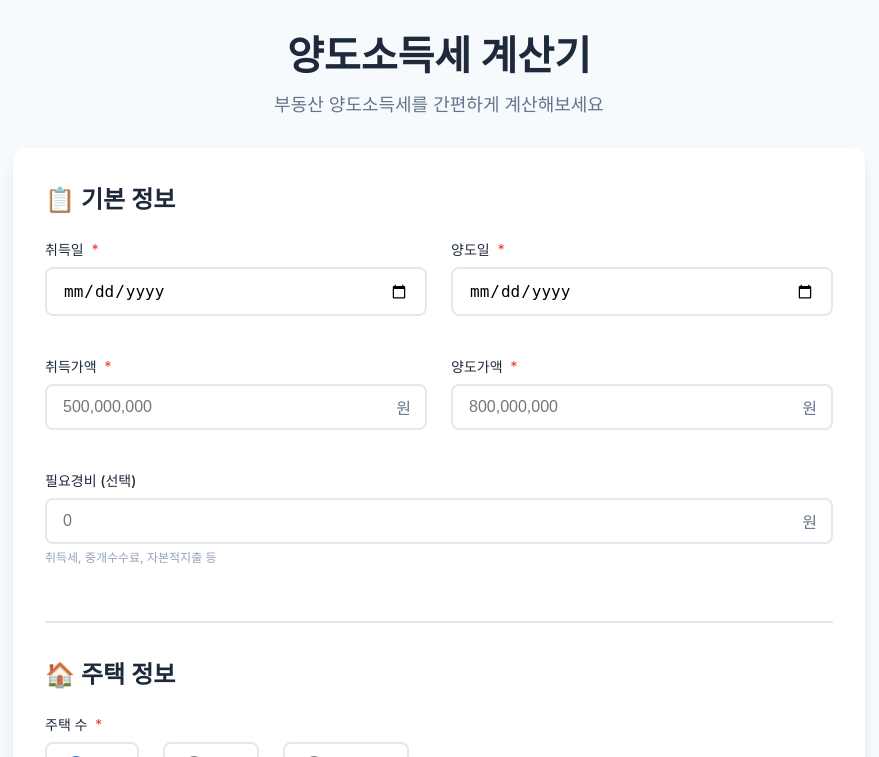
Test case: Capital Gains Tax Flow Integration Tests › Form Validation Integration › Should validate date order (transfer date must be after acquisition)
# Enter dates in wrong order
Step 1. Type "2024-01-01" into the date field labelled "취득일 *" → (236,292), box x1=45 y1=267 x2=427 y2=316
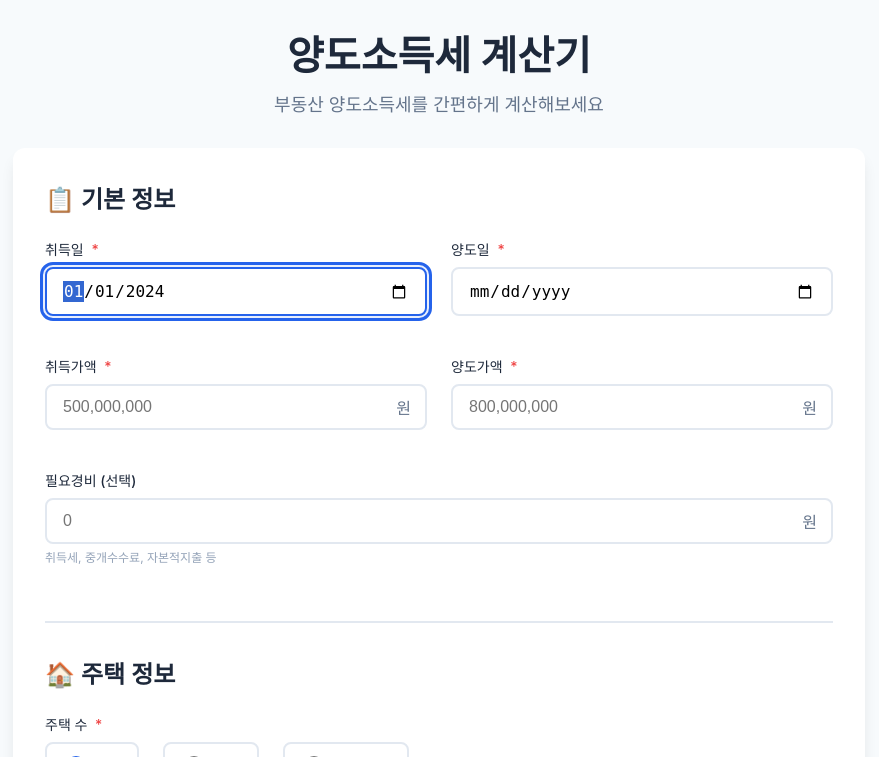
Step 2. Type "2023-01-01" into the date field labelled "양도일 *" → (642,292), box x1=451 y1=267 x2=833 y2=316
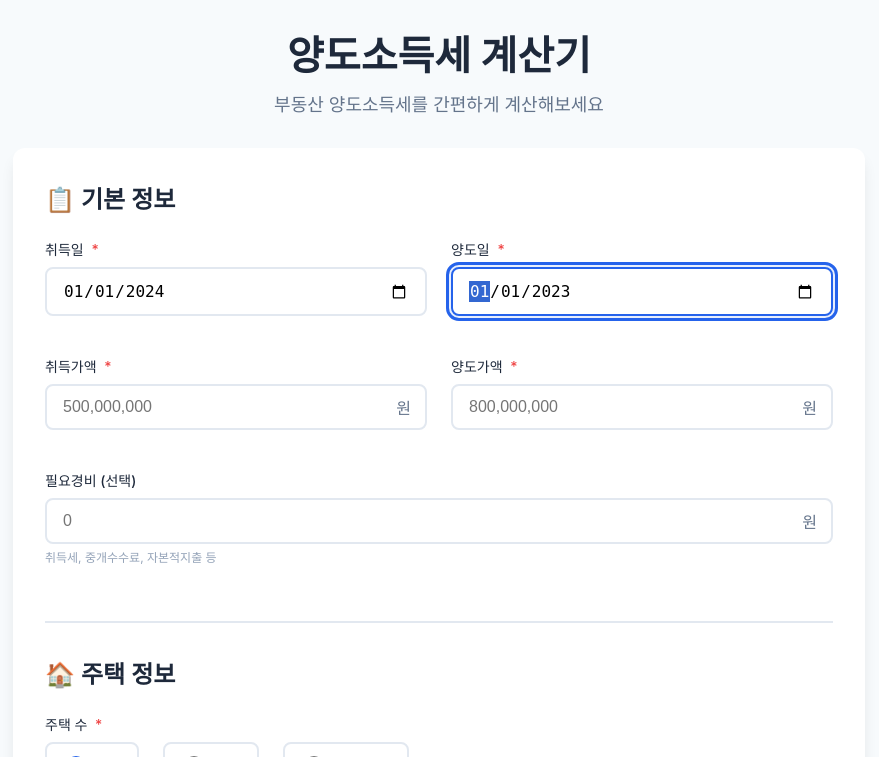
Step 3. Type "500000000" into the field labelled "취득가액 *" → (236,407), box x1=45 y1=384 x2=427 y2=430
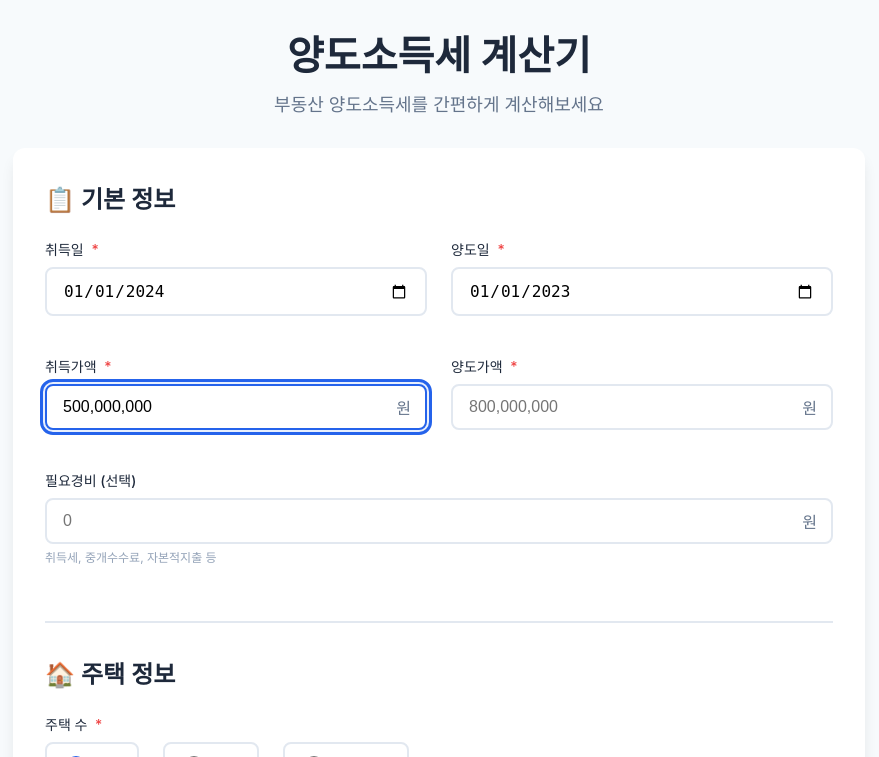
Step 4. Type "600000000" into the field labelled "양도가액 *" → (642,407), box x1=451 y1=384 x2=833 y2=430
(page scrolled)
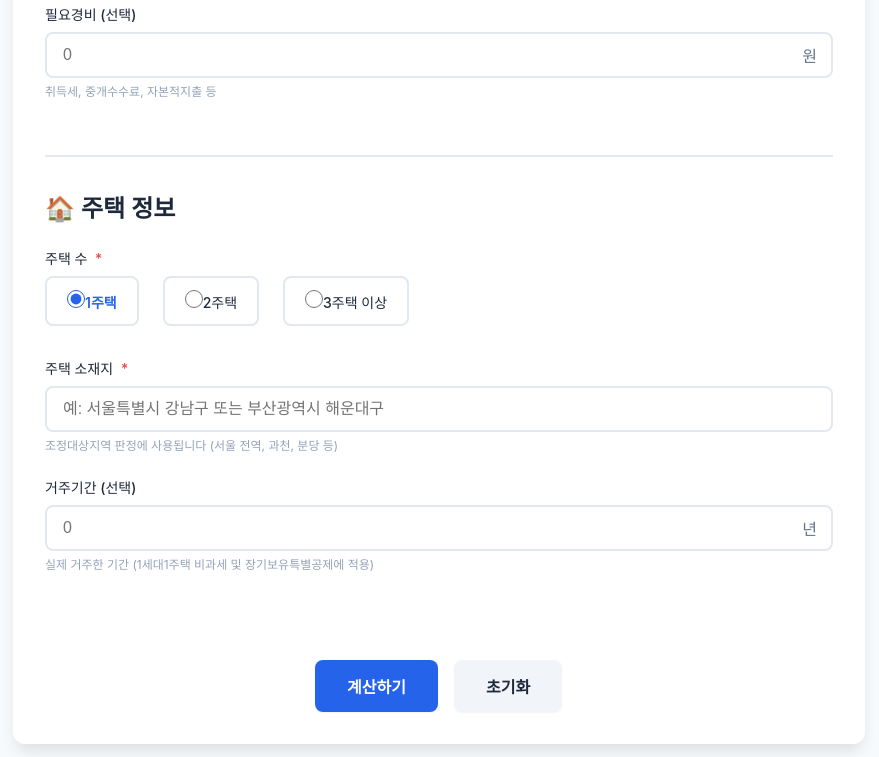
Step 5. Type "서울특별시 마포구" into the field labelled "주택 소재지 *" → (439,409), box x1=45 y1=386 x2=833 y2=432
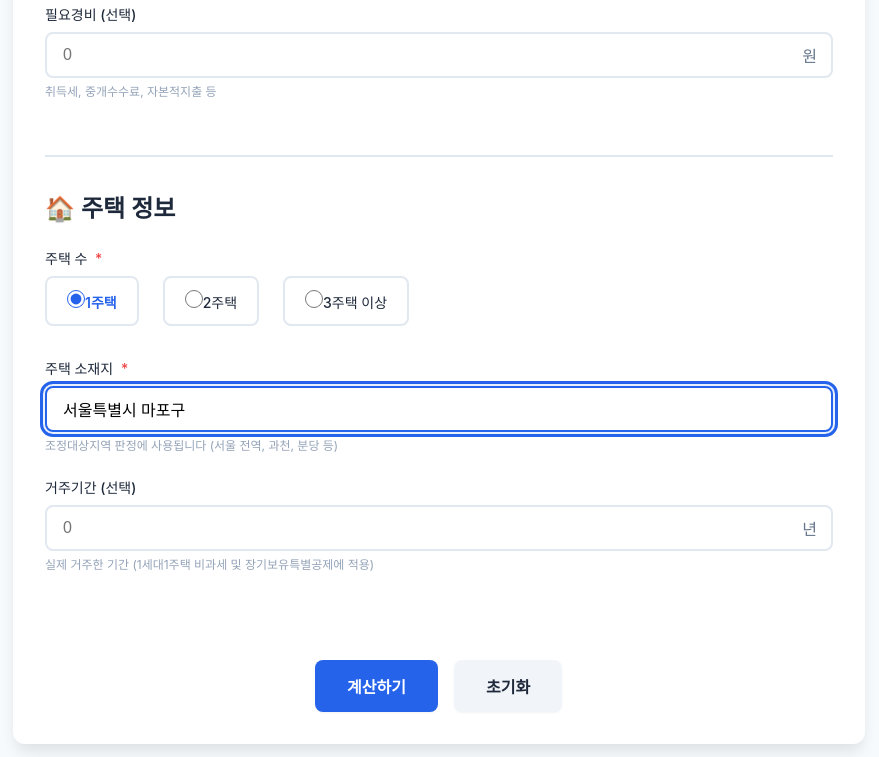
Step 6. Click the button "계산하기" → (377,686), box x1=316 y1=660 x2=438 y2=712
(page scrolled)
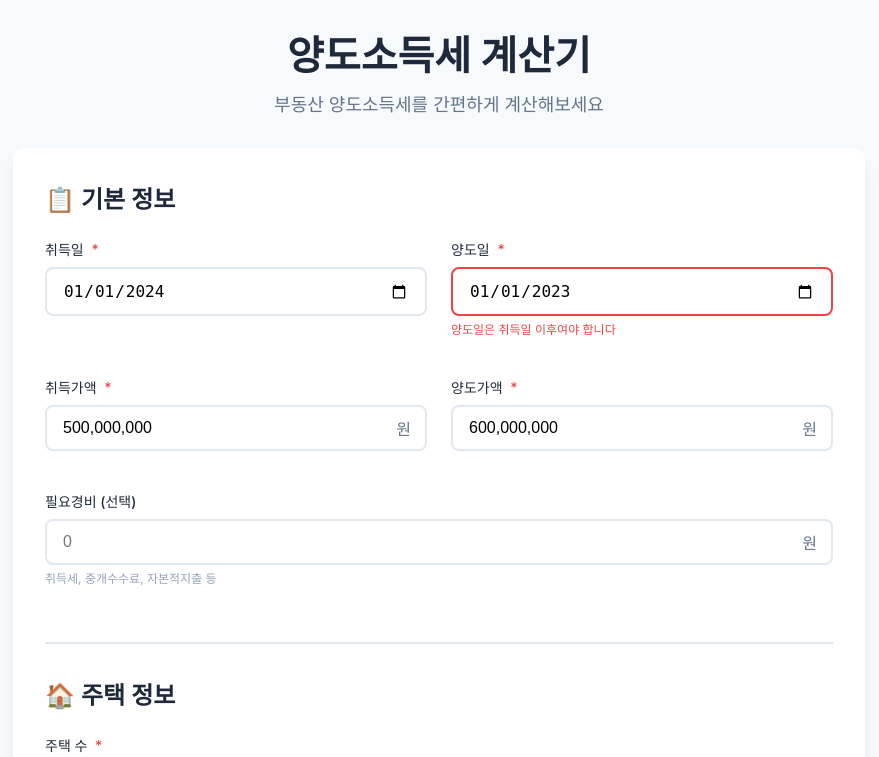
Expected: the text "양도일은 취득일 이후여야 합니다" is shown, x1=451 y1=322 x2=616 y2=337
